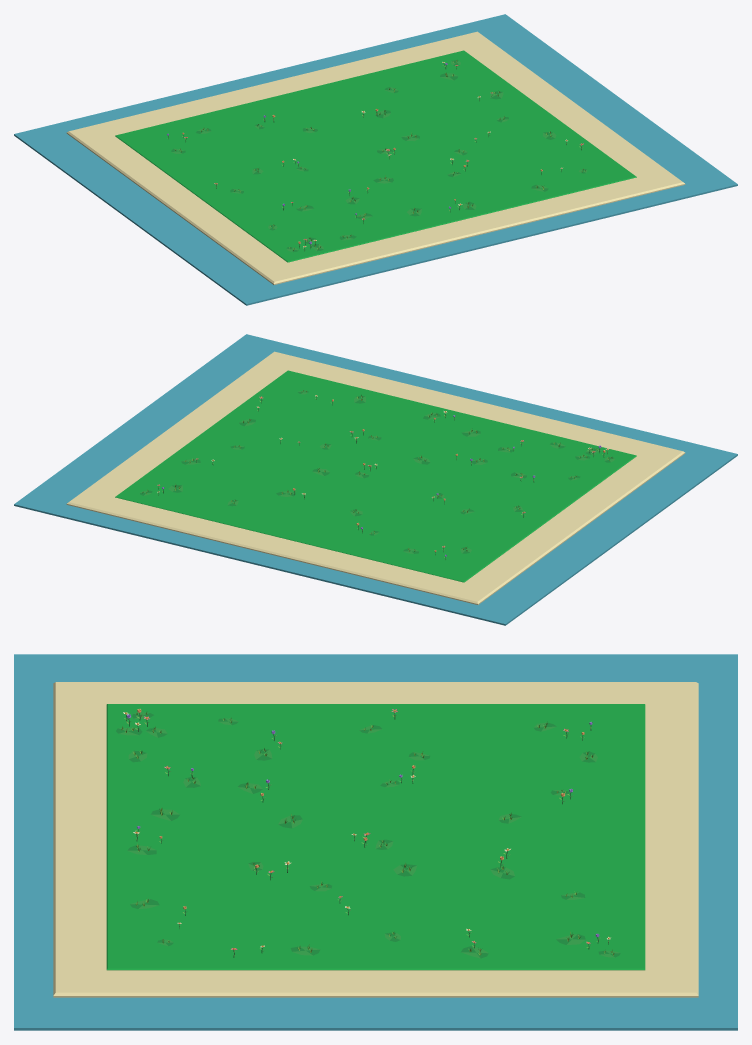
Rendered from mapa-flores-e-relva.glb.
3 renders of one model, top to bottom at view 1: azimuth 30°, elevation 25°; view 2: azimuth 150°, elevation 25°; view 3: azimuth 270°, elevation 25°, orthographic. The views are drawn at different scales.
Visible parts, largest first — view 1: Relvado, Mar, Faixa de areia; view 2: Relvado, Mar, Faixa de areia; view 3: Relvado, Mar, Faixa de areia.
Part boxes in pixels (bbox=[...]): Relvado: bbox=[115, 50, 636, 262]; Mar: bbox=[14, 14, 737, 305]; Faixa de areia: bbox=[66, 31, 685, 284]; Relvado: bbox=[115, 370, 636, 582]; Mar: bbox=[14, 334, 737, 625]; Faixa de areia: bbox=[66, 351, 685, 604]; Relvado: bbox=[106, 704, 645, 970]; Mar: bbox=[14, 654, 737, 1030]; Faixa de areia: bbox=[53, 682, 698, 997].
Bounding box in the file's own units: 36.5 × 0.8763 × 29.9.
